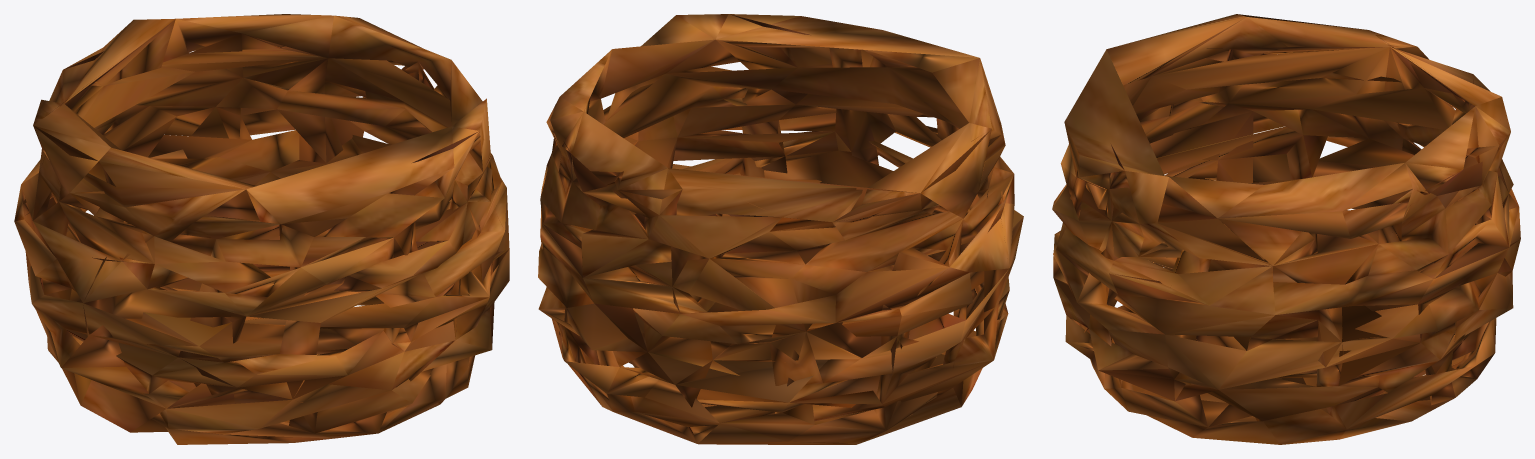
The model's file is basket.glb.
3 views of the same model, side by side, from view 1: azimuth 30°, elevation 25°; view 2: azimuth 150°, elevation 25°; view 3: azimuth 270°, elevation 25° (orthographic). The views are drawn at different scales.
Visible parts, largest first — view 1: basket; view 2: basket; view 3: basket.
Boxes of the visible parts, x1,y1,x2,y2 form: basket: (14, 14, 509, 444); basket: (538, 14, 1023, 444); basket: (1052, 14, 1520, 444).
Size of the model in its own units: 0.9817 by 0.6083 by 0.9655.
Materials: 1 (1 with a texture image).
